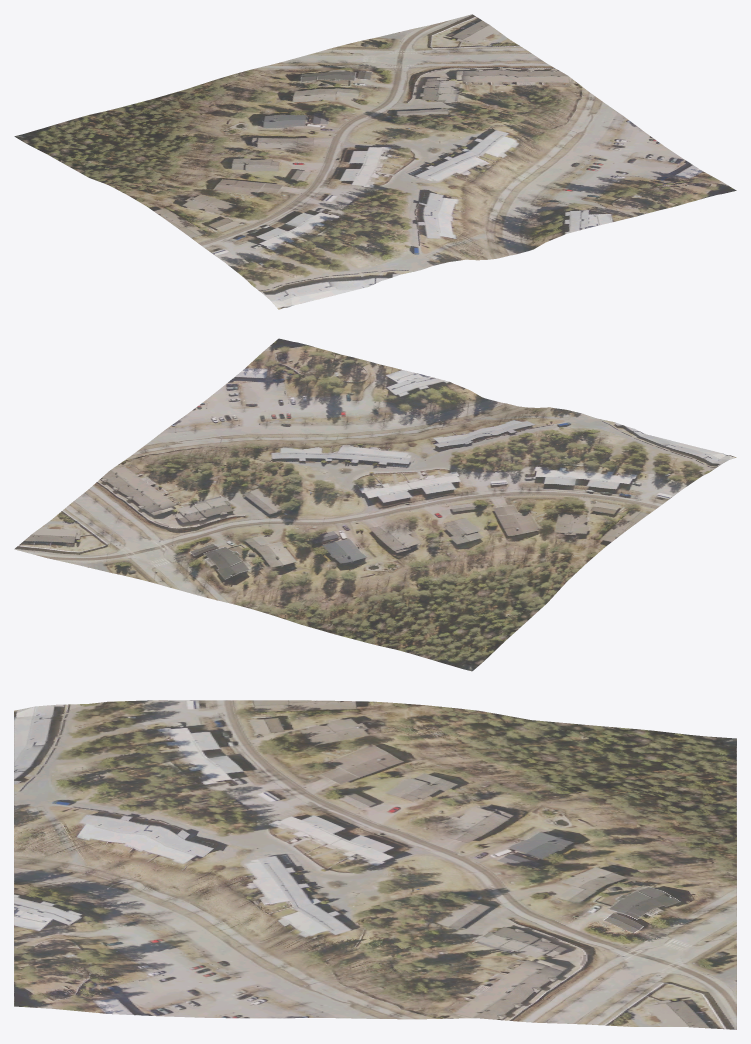
Rendered from CM_Terrain_24490868_6816927.fbx.
The picture shows the model from 3 angles, top to bottom: view 1: azimuth 30°, elevation 25°; view 2: azimuth 150°, elevation 25°; view 3: azimuth 270°, elevation 25°; orthographic projection. The views are drawn at different scales.
Visible parts, largest first — view 1: CM_Terrain_24490868_6816927_LOD0; view 2: CM_Terrain_24490868_6816927_LOD0; view 3: CM_Terrain_24490868_6816927_LOD0.
Boxes of the visible parts, <box> form: CM_Terrain_24490868_6816927_LOD0: <box>14,14,736,309</box>; CM_Terrain_24490868_6816927_LOD0: <box>14,338,736,671</box>; CM_Terrain_24490868_6816927_LOD0: <box>14,700,736,1029</box>.
Size of what is drawn, in the model's own units: 205 by 13.98 by 205.
